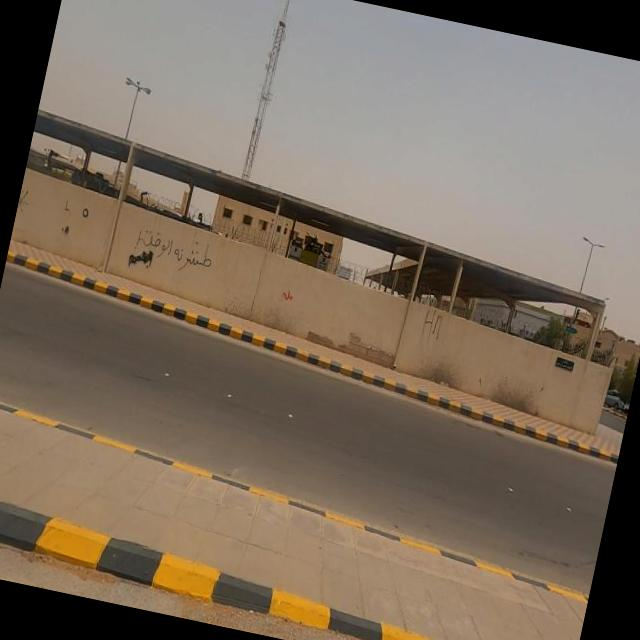debris: (68, 180, 274, 325), (388, 280, 474, 377), (34, 166, 98, 268), (62, 184, 114, 251), (264, 267, 318, 327)
